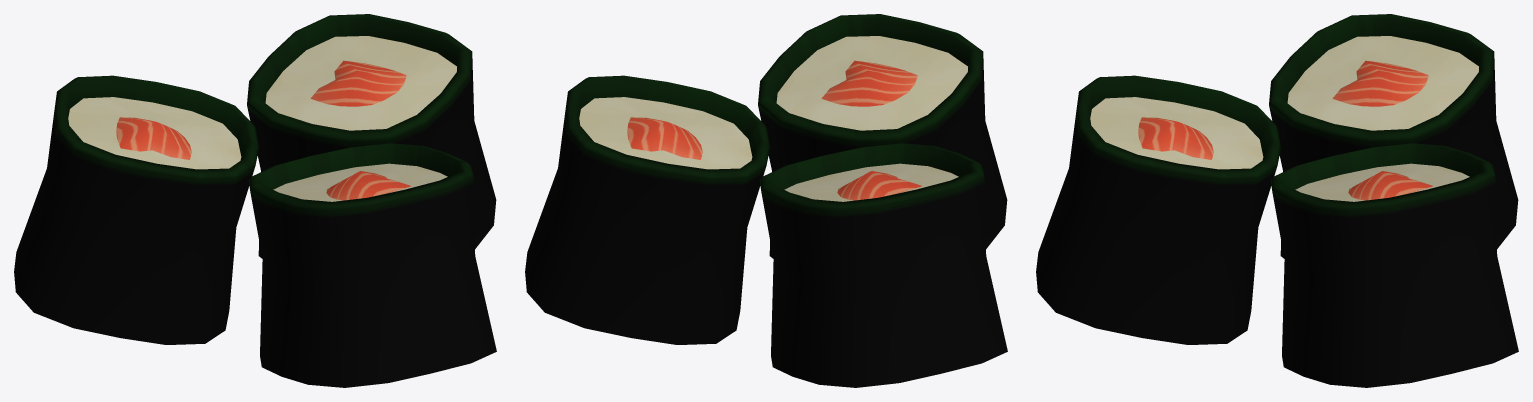
The model's file is m_recipe_sushi_01 #133833.fbx.
3 views of the same model, side by side, from view 1: azimuth 30°, elevation 25°; view 2: azimuth 150°, elevation 25°; view 3: azimuth 270°, elevation 25° (orthographic).
Parts seen in each view (by area): view 1: m_recipe_sushi_01_2, m_recipe_sushi_01_1, m_recipe_sushi_01_0; view 2: m_recipe_sushi_01_2, m_recipe_sushi_01_1, m_recipe_sushi_01_0; view 3: m_recipe_sushi_01_2, m_recipe_sushi_01_1, m_recipe_sushi_01_0.
Boxes of the visible parts, box(x1,y1,x2,y2) form: m_recipe_sushi_01_2: box(14, 14, 496, 387); m_recipe_sushi_01_1: box(68, 36, 456, 201); m_recipe_sushi_01_0: box(116, 60, 411, 200); m_recipe_sushi_01_2: box(525, 14, 1007, 387); m_recipe_sushi_01_1: box(579, 36, 967, 201); m_recipe_sushi_01_0: box(627, 60, 922, 200); m_recipe_sushi_01_2: box(1036, 14, 1518, 387); m_recipe_sushi_01_1: box(1090, 36, 1478, 201); m_recipe_sushi_01_0: box(1138, 60, 1433, 200).
Size of the model in its own units: 0.7184 by 0.3018 by 0.6499.
Materials: 3 (3 with a texture image).
